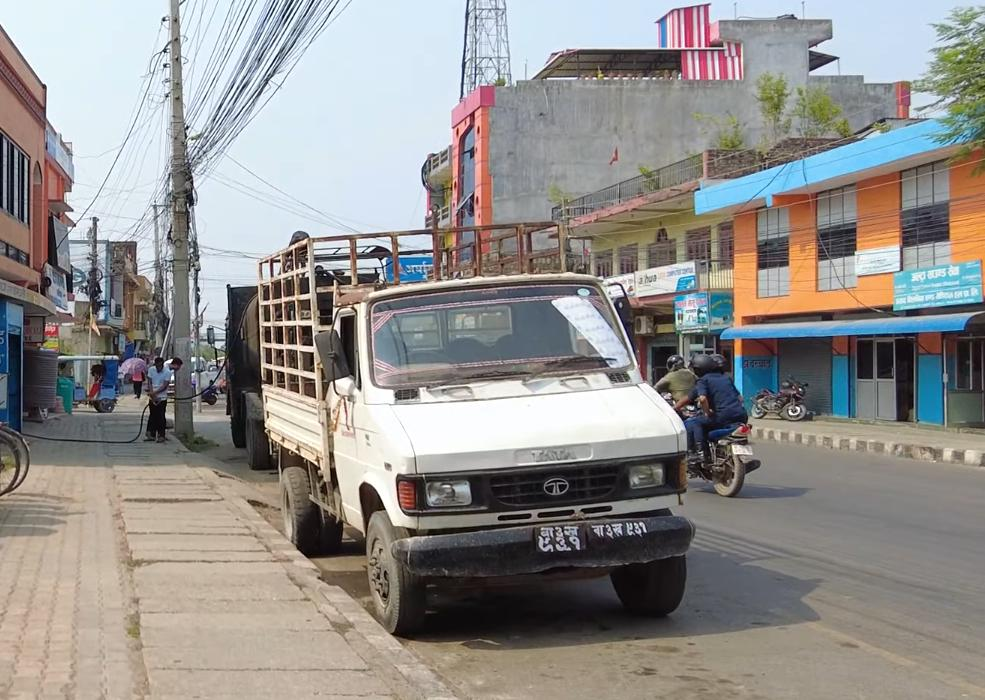bike: (687, 337, 771, 514)
mini_truck: (246, 212, 704, 648)
